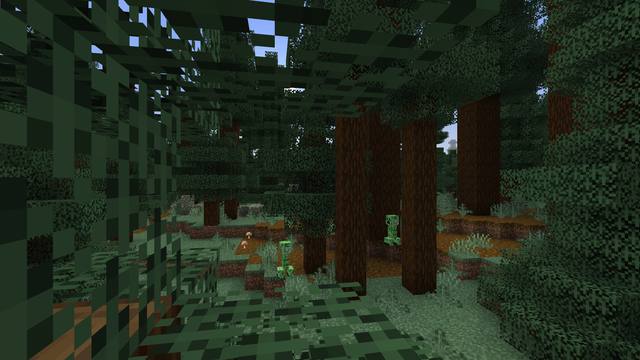creepers: (278, 238, 291, 277), (385, 213, 399, 245)
